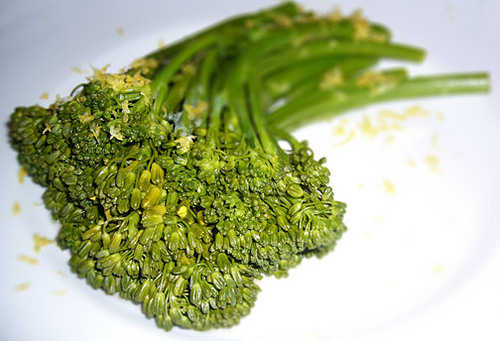broccoli: (9, 0, 490, 330)
